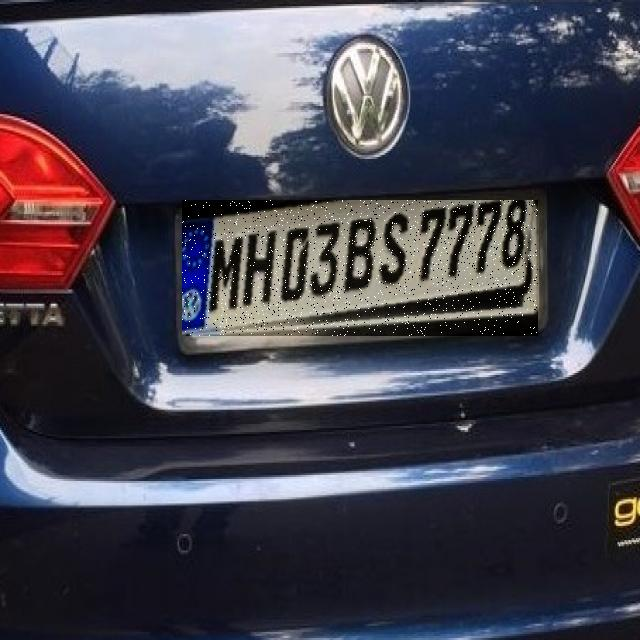Plate: (183, 201, 539, 337)
